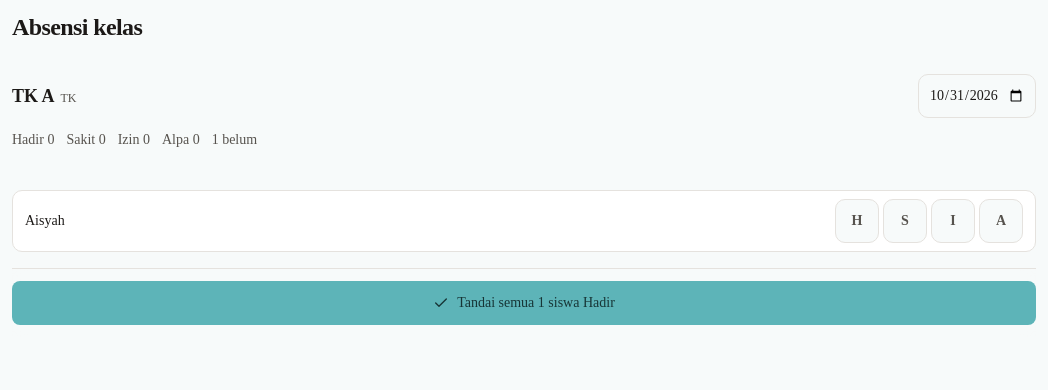
Test case: class attendance failure copy (TCHX-4/15, TCH-10, TCH-11) › 401 on a row save: Indonesian copy, a sign-in link, no Coba lagi, no raw 'Unauthorized'
Click the radio button named "Izin". click: (953,221)
box: [931,199,975,243]
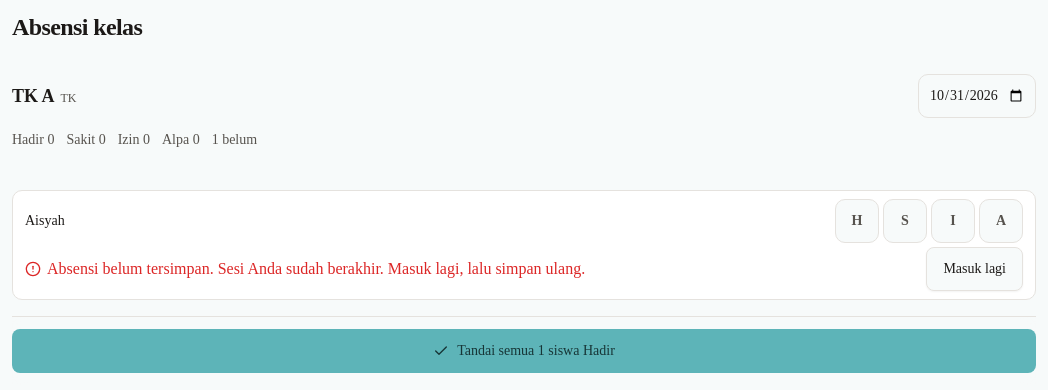
Expected: the message shows "Absensi belum tersimpan. Sesi Anda sudah berakhir. Masuk lagi, lalu simpan ulang.", [47,260,585,277]
